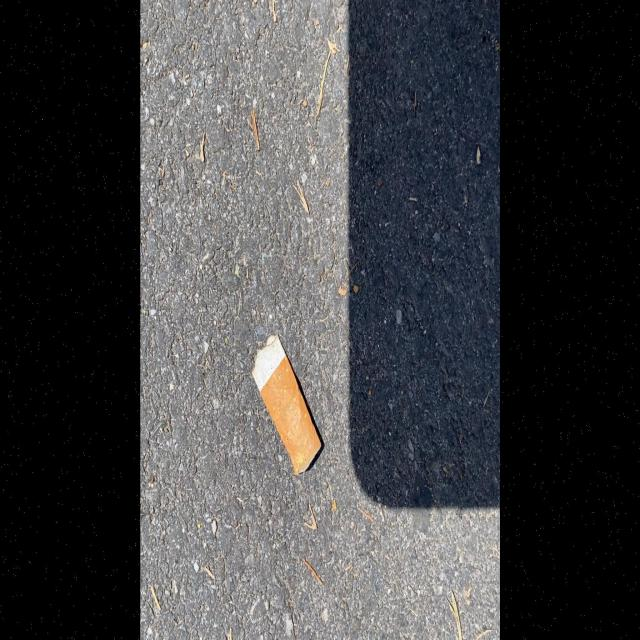other waste: (250, 335, 322, 476)
